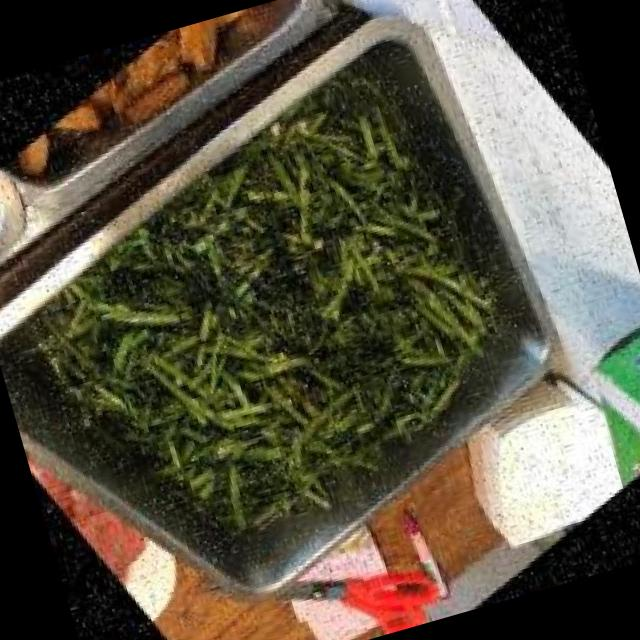water_spinach: (17, 70, 540, 571)
